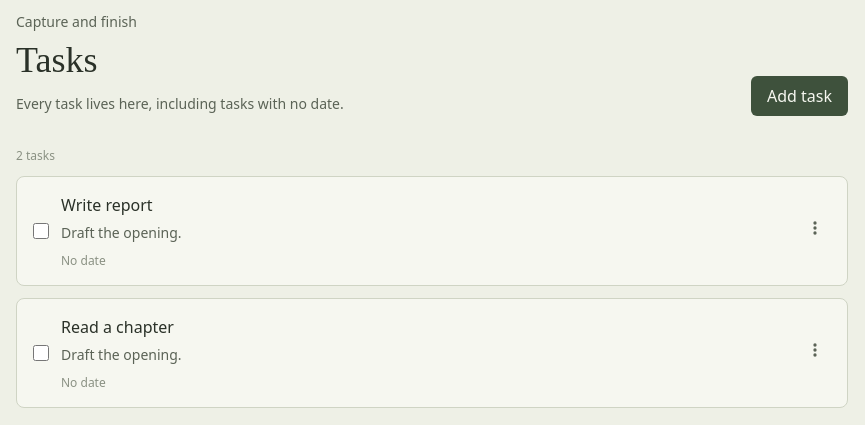
Test: TasksPage › moves a task below open ones after it is marked done
Expected: the headings read "Write report", "Read a chapter", in this order, [61,194,153,216]; [61,316,174,338]
Click the checkbox named "Mark Write report as done" at coordinates (41, 231), box [33,223,49,239]
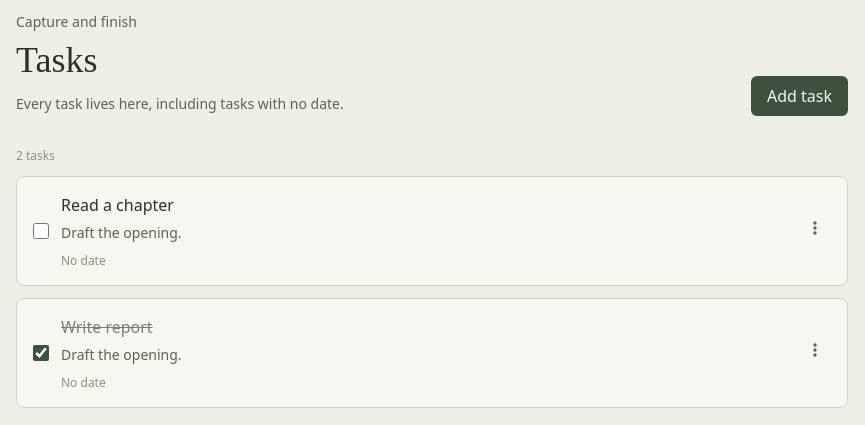
Now the headings read "Read a chapter", "Write report", in this order, box [61,194,174,216]; [61,316,153,338]
